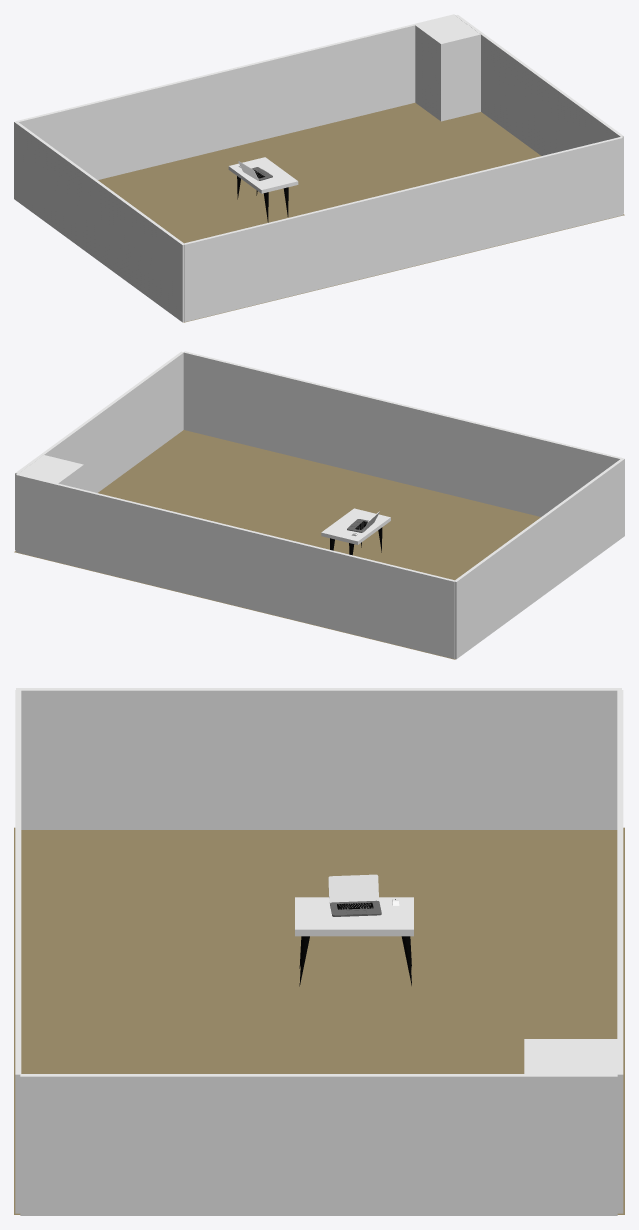
Rendered from room.DAE.
3 views of the same model, one above another, from view 1: azimuth 30°, elevation 25°; view 2: azimuth 150°, elevation 25°; view 3: azimuth 270°, elevation 25° (orthographic). The views are drawn at different scales.
Parts seen in each view (by area): view 1: Box002, Box090, Plane001, Box003, Box091, Box005, Box007; view 2: Box090, Box002, Plane001, Box003, Box091, Box005, Box007; view 3: Plane001, Box091, Box003, Box007, Box090, Box002, Box005, Box0041.
Boxes of the visible parts, bbox=[...] form: Box002: bbox=[183, 136, 623, 321]; Box090: bbox=[16, 14, 455, 179]; Plane001: bbox=[98, 102, 624, 322]; Box003: bbox=[14, 121, 184, 322]; Box091: bbox=[455, 15, 623, 213]; Box005: bbox=[414, 15, 480, 121]; Box007: bbox=[228, 157, 298, 193]; Box090: bbox=[16, 473, 454, 658]; Box002: bbox=[183, 351, 622, 516]; Plane001: bbox=[14, 430, 540, 659]; Box003: bbox=[454, 458, 624, 659]; Box091: bbox=[15, 351, 183, 550]; Box005: bbox=[18, 455, 83, 489]; Box007: bbox=[321, 508, 390, 544]; Plane001: bbox=[14, 827, 624, 1214]; Box091: bbox=[20, 1074, 617, 1215]; Box003: bbox=[16, 688, 621, 829]; Box007: bbox=[295, 897, 413, 936]; Box090: bbox=[617, 690, 623, 1213]; Box002: bbox=[15, 690, 21, 1213]; Box005: bbox=[524, 1039, 621, 1073]; Box0041: bbox=[328, 874, 378, 903].
Bounding box in the file's own units: 1797 × 1194 × 300.
